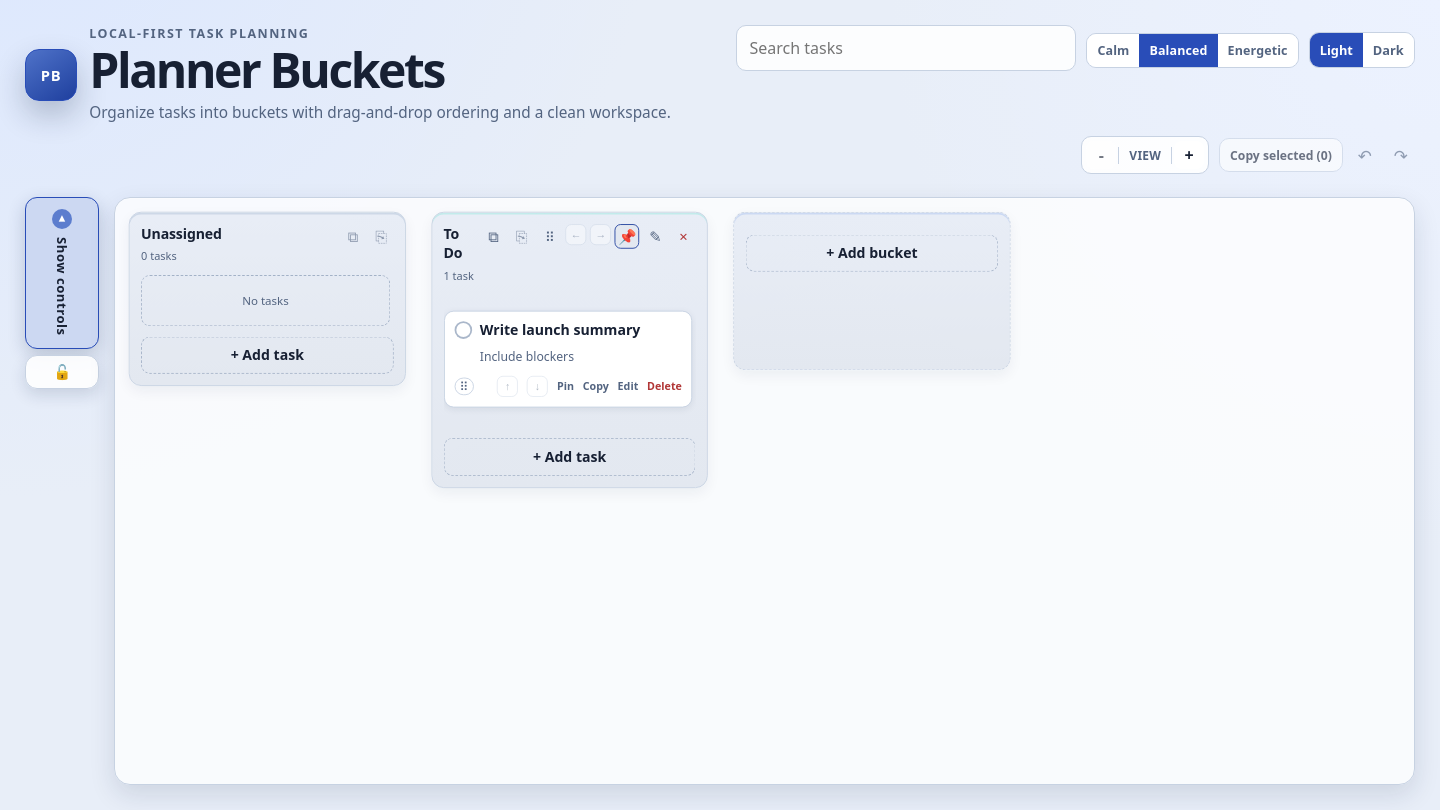
Scenario: App integration › pastes copied tasks into another bucket
Click the button named "Copy all tasks in To Do" at {"x": 494, "y": 236}, box [481, 224, 506, 249]
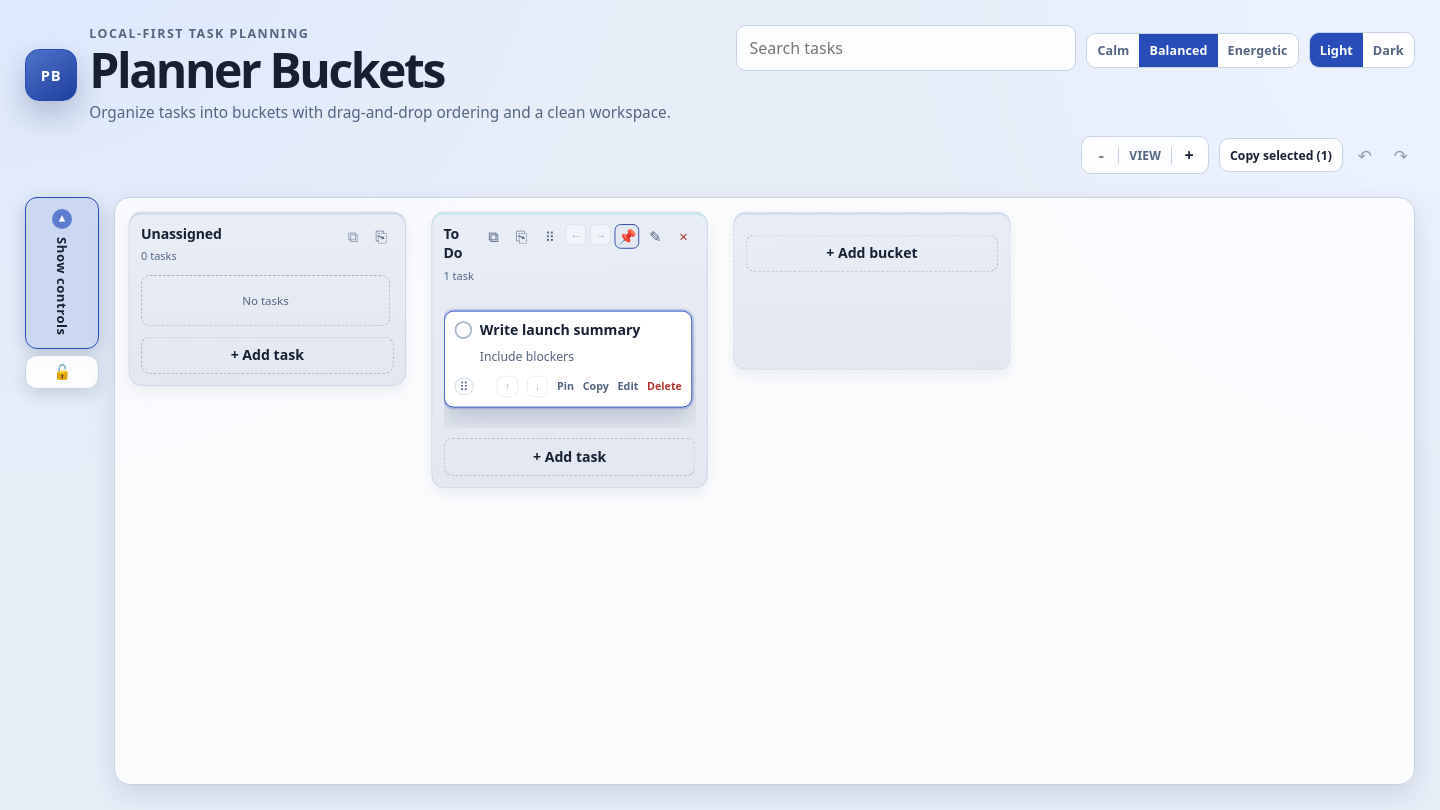
Click the button named "Paste tasks into Unassigned" at {"x": 381, "y": 236}, box [369, 224, 394, 249]
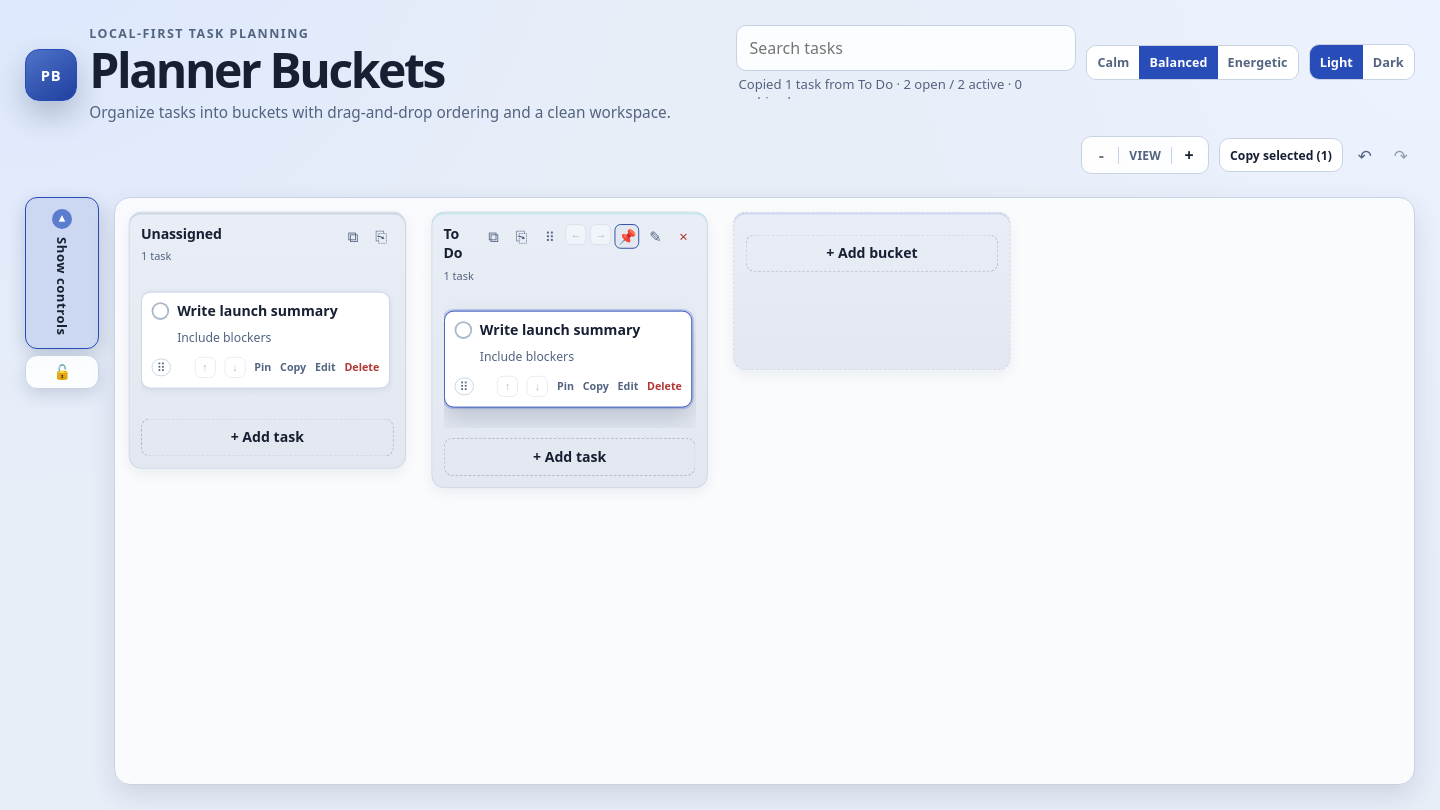
expect the button "Write launch summary" below "Unassigned" is shown: met, box [177, 303, 380, 322]
